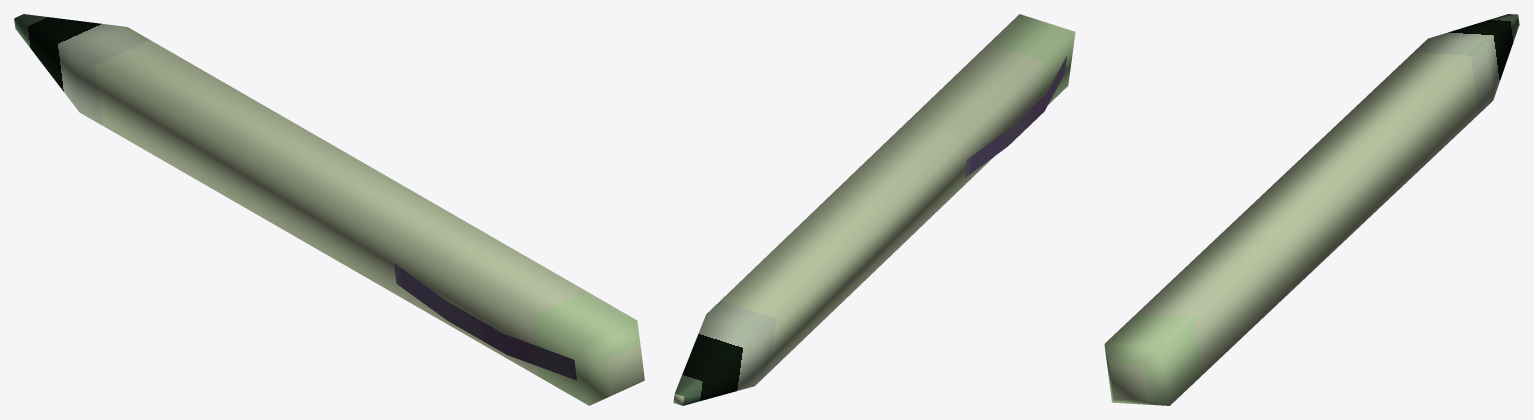
Rendered from pen6.obj.
3 renders of one model, left to right at view 1: azimuth 30°, elevation 25°; view 2: azimuth 150°, elevation 25°; view 3: azimuth 330°, elevation 25°, orthographic. The views are drawn at different scales.
Visible parts, largest first — view 1: pen6; view 2: pen6; view 3: pen6.
Boxes of the visible parts, x1,y1,x2,y2 form: pen6: (14, 14, 644, 405); pen6: (673, 14, 1075, 405); pen6: (1104, 14, 1519, 405).
Size of the model in its own units: 0.0379 by 0.0181 by 0.2307.
